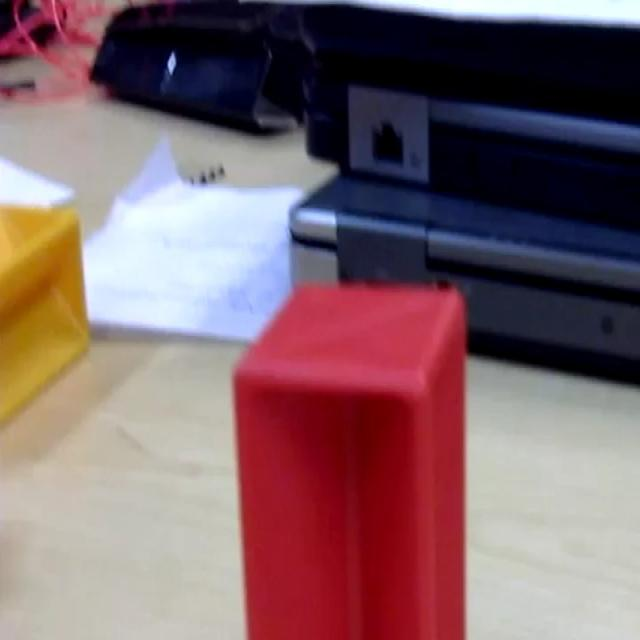red_block: (231, 279, 468, 636)
yellow_block: (0, 199, 91, 425)
